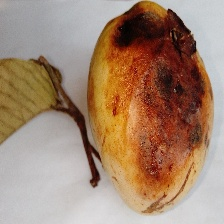guava: (56, 30, 194, 178)
